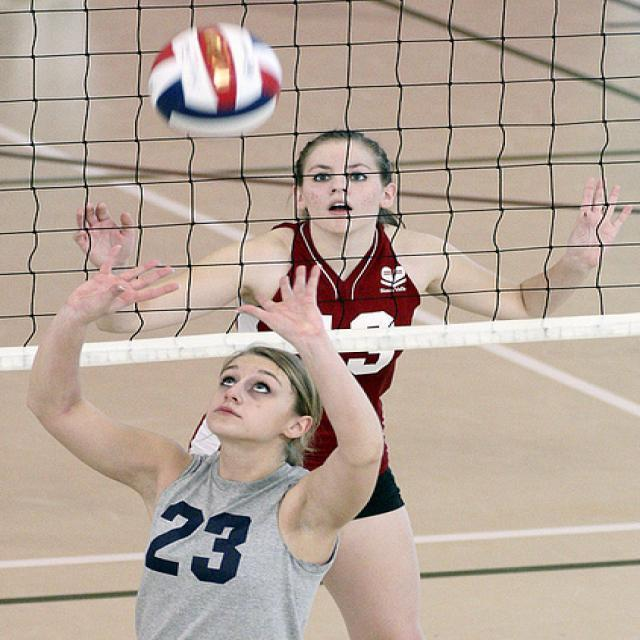volleyball: (150, 24, 280, 136)
